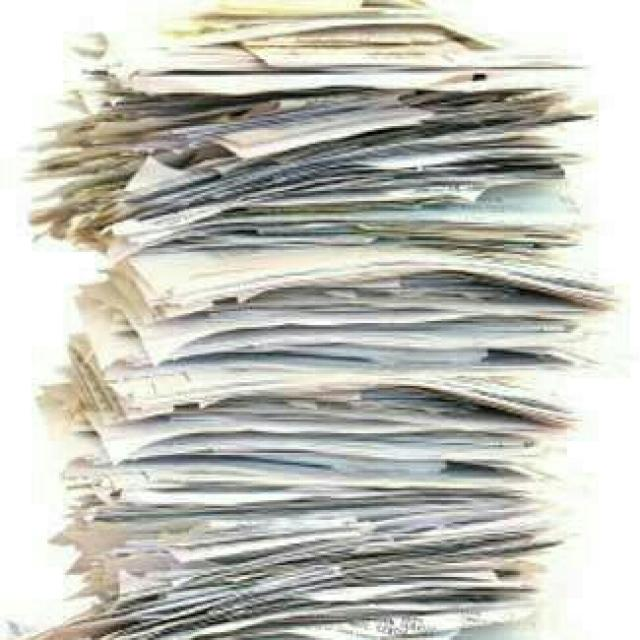Kertas: (56, 7, 586, 640)
